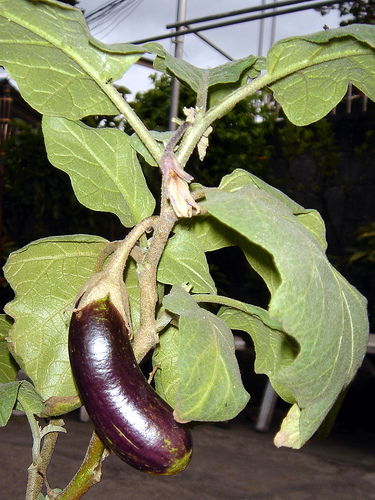eggplant: (64, 252, 195, 478)
